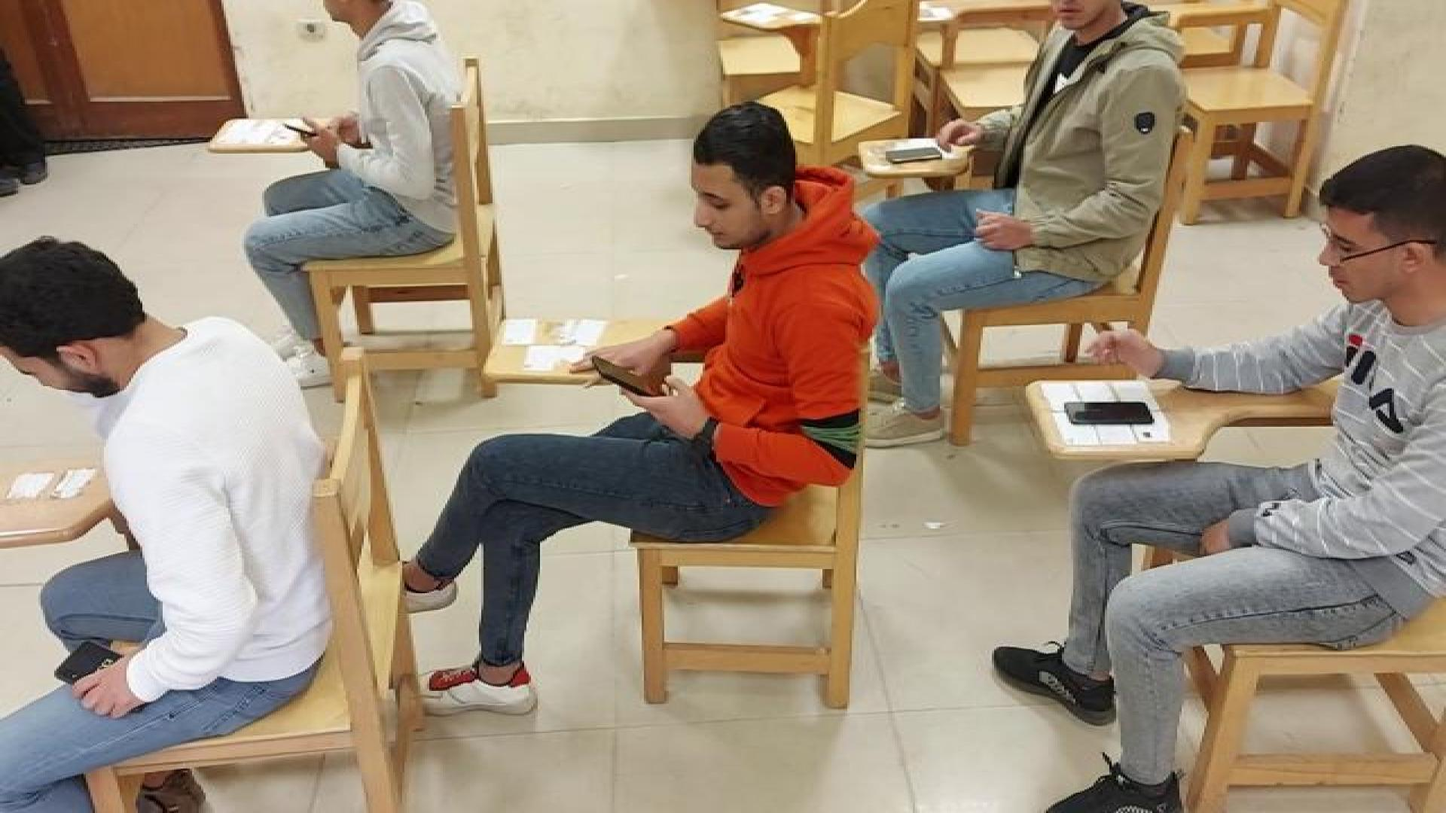phone: (592, 355, 667, 395), (58, 639, 119, 685), (1063, 402, 1153, 426), (888, 148, 940, 159)
